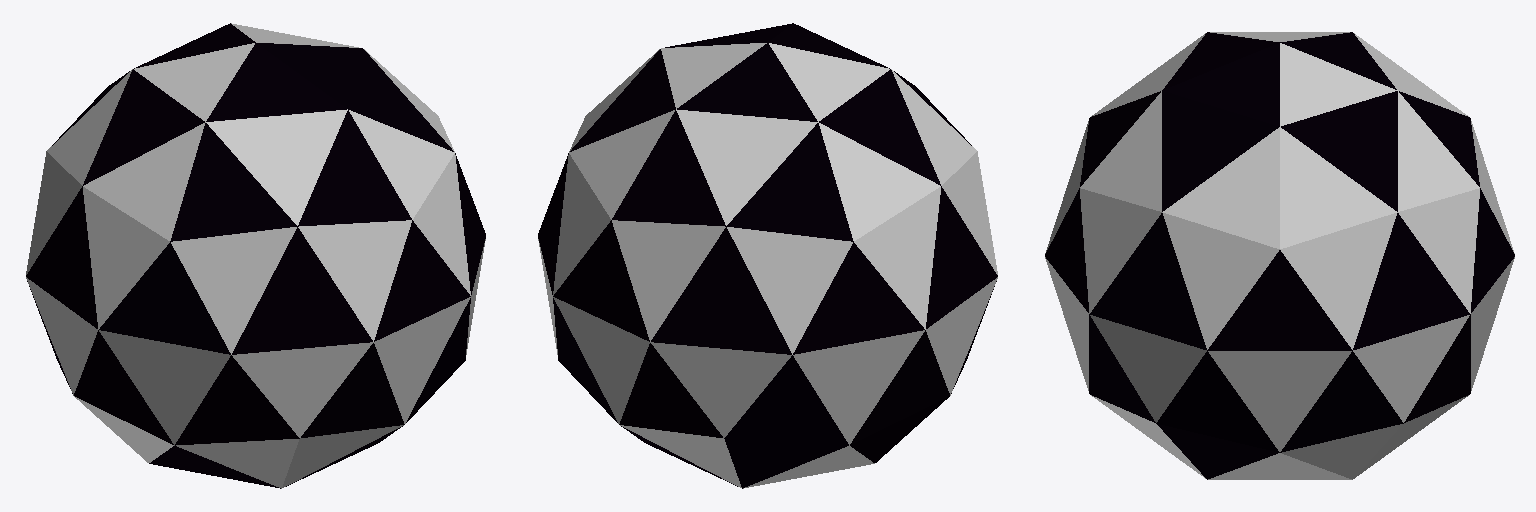
The model's file is pelota_01.obj.
3 views of the same model, side by side, from view 1: azimuth 30°, elevation 25°; view 2: azimuth 150°, elevation 25°; view 3: azimuth 270°, elevation 25° (orthographic).
Parts seen in each view (by area): view 1: Pelota_Icosphere; view 2: Pelota_Icosphere; view 3: Pelota_Icosphere.
Part boxes in pixels (x1,y1,x2,y2): Pelota_Icosphere: (26, 23, 485, 488); Pelota_Icosphere: (538, 23, 997, 488); Pelota_Icosphere: (1045, 32, 1514, 479).
Bounding box in the file's own units: 4.24 × 4.46 × 4.46.